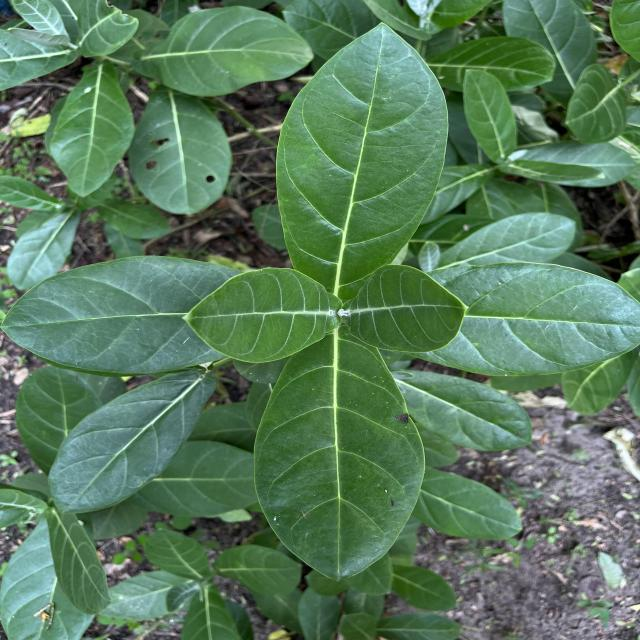Calotropis gigantea: (272, 21, 450, 282), (250, 333, 428, 584), (0, 255, 242, 378), (46, 373, 219, 515), (449, 260, 640, 379), (144, 4, 315, 97), (181, 266, 333, 365), (128, 90, 234, 218), (48, 62, 137, 196), (342, 262, 470, 354), (397, 370, 533, 452), (412, 467, 524, 542), (452, 212, 581, 268), (458, 64, 519, 160), (561, 61, 629, 138)
